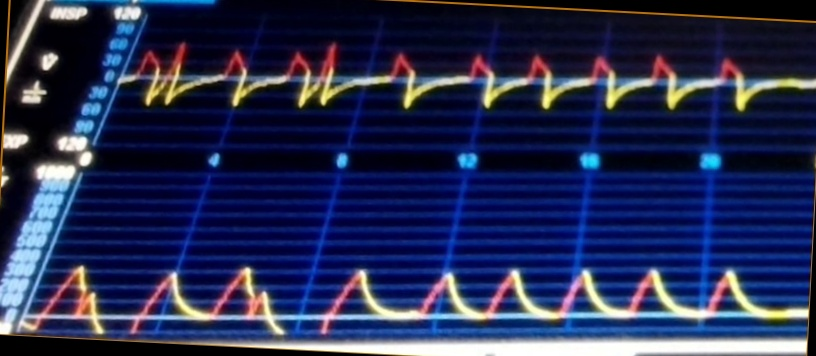Double_Triggering Flow: (127, 27, 745, 124)
Double_Triggering Volume: (32, 259, 742, 334)
